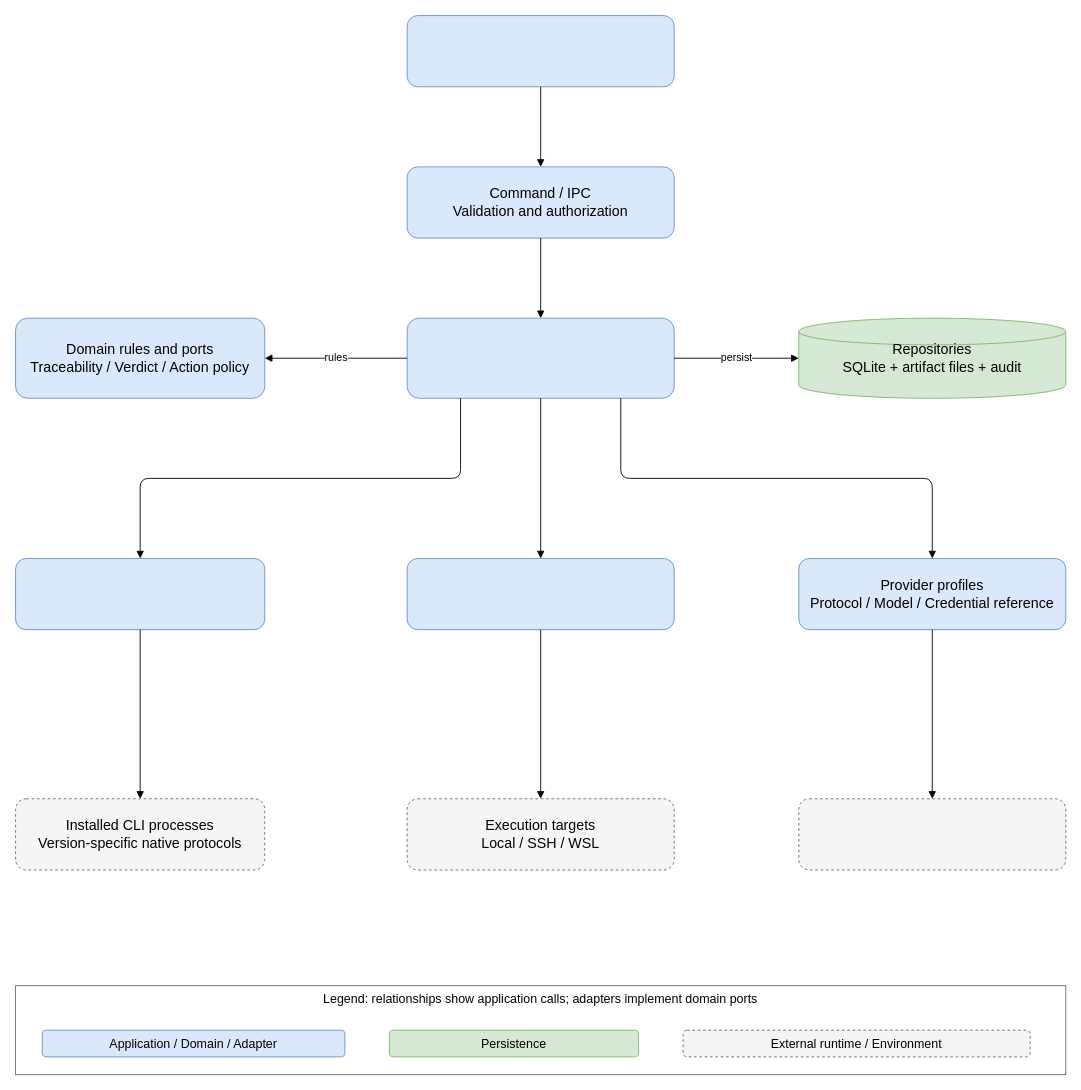
The diagram is 1081 pixels wide and 1090 high, and some of its shapes have lost their labels. The centre of each missing label's shape, as x and y in pixels:
"Agent drivers Role contracts / Event normalization" belongs at [140,594].
"Application services Durable workflow orchestration" belongs at [540,357].
"Desktop UI Spec / Scenarios / Cases / Evidence" belongs at [540,51].
"Execution adapters Preflight / Run / Cancel / Collect" belongs at [540,594].
"Native authentication / OS keychain No secrets in workflow exports" belongs at [932,834].
